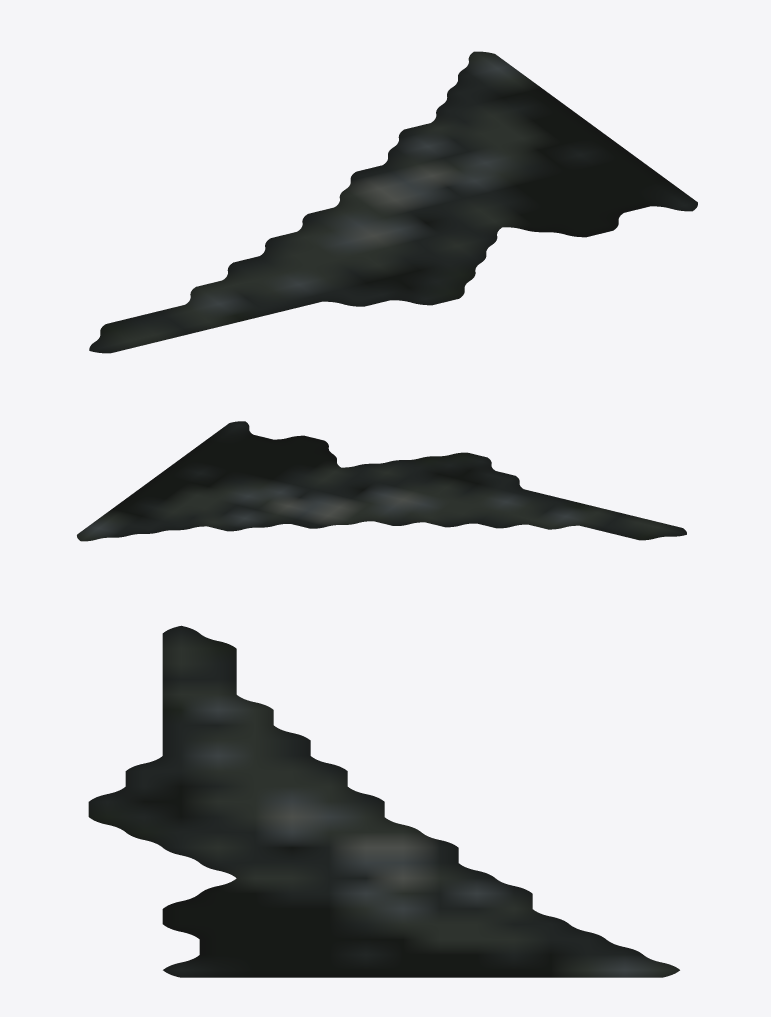
Rendered from SM_EC_Tree_Part_Card_09.fbx.
3 views of the same model, one above another, from view 1: azimuth 30°, elevation 25°; view 2: azimuth 150°, elevation 25°; view 3: azimuth 270°, elevation 25° (orthographic). The views are drawn at different scales.
Visible parts, largest first — view 1: SM_EC_Tree_Part_Card_09; view 2: SM_EC_Tree_Part_Card_09; view 3: SM_EC_Tree_Part_Card_09.
Part boxes in pixels (box(x1,y1,x2,y2)): SM_EC_Tree_Part_Card_09: box(89, 51, 697, 353); SM_EC_Tree_Part_Card_09: box(77, 421, 686, 541); SM_EC_Tree_Part_Card_09: box(88, 625, 679, 977).
Size of the model in its own units: 0.4259 by 0.3139 by 1.75e-10.
